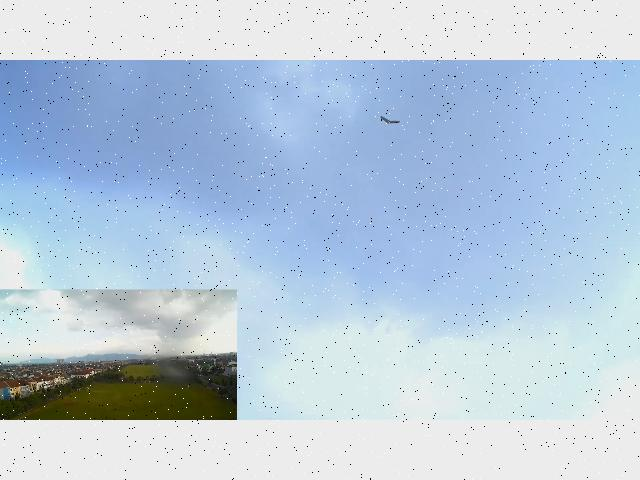Anti-Drone: (380, 116, 400, 125)
